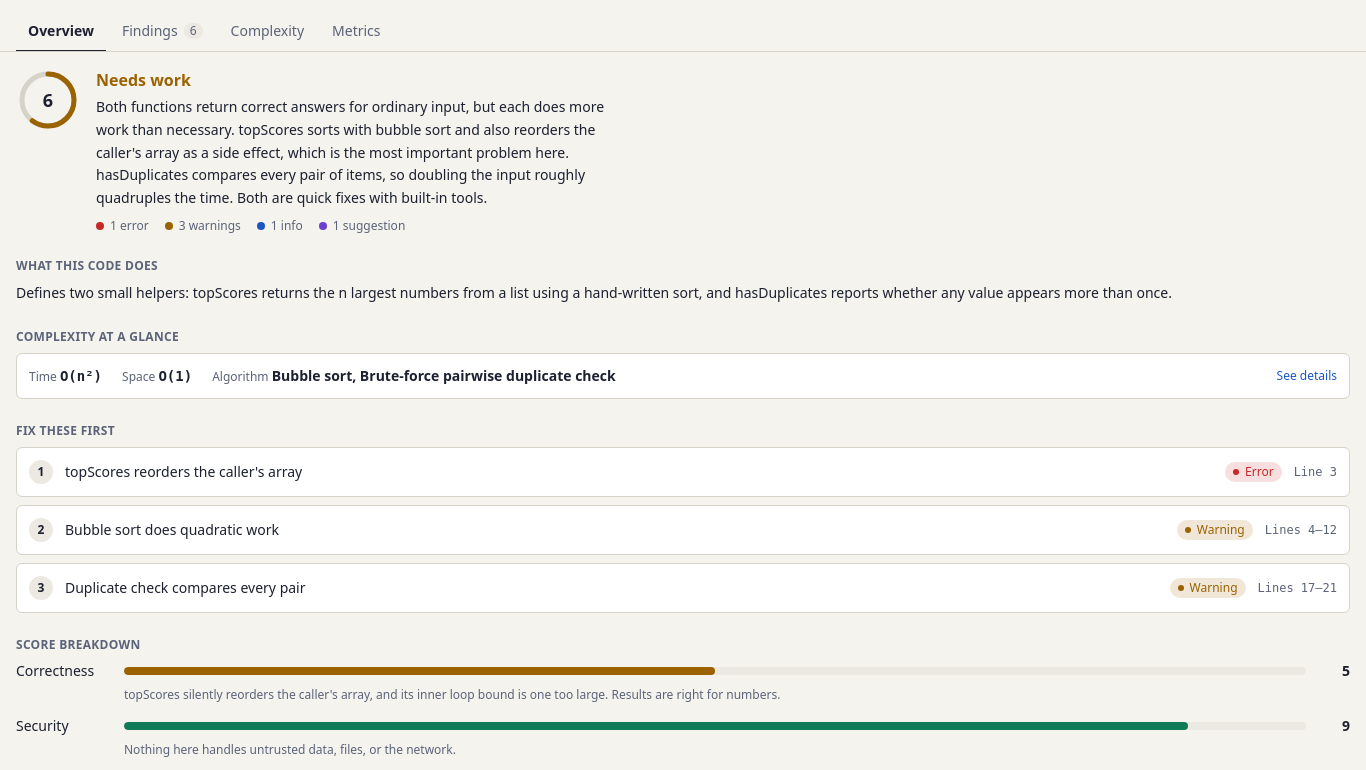
it: ReviewPanel result › switches between the sections
Click the tab "Findings 6" at (162, 32), box [110, 12, 215, 52]
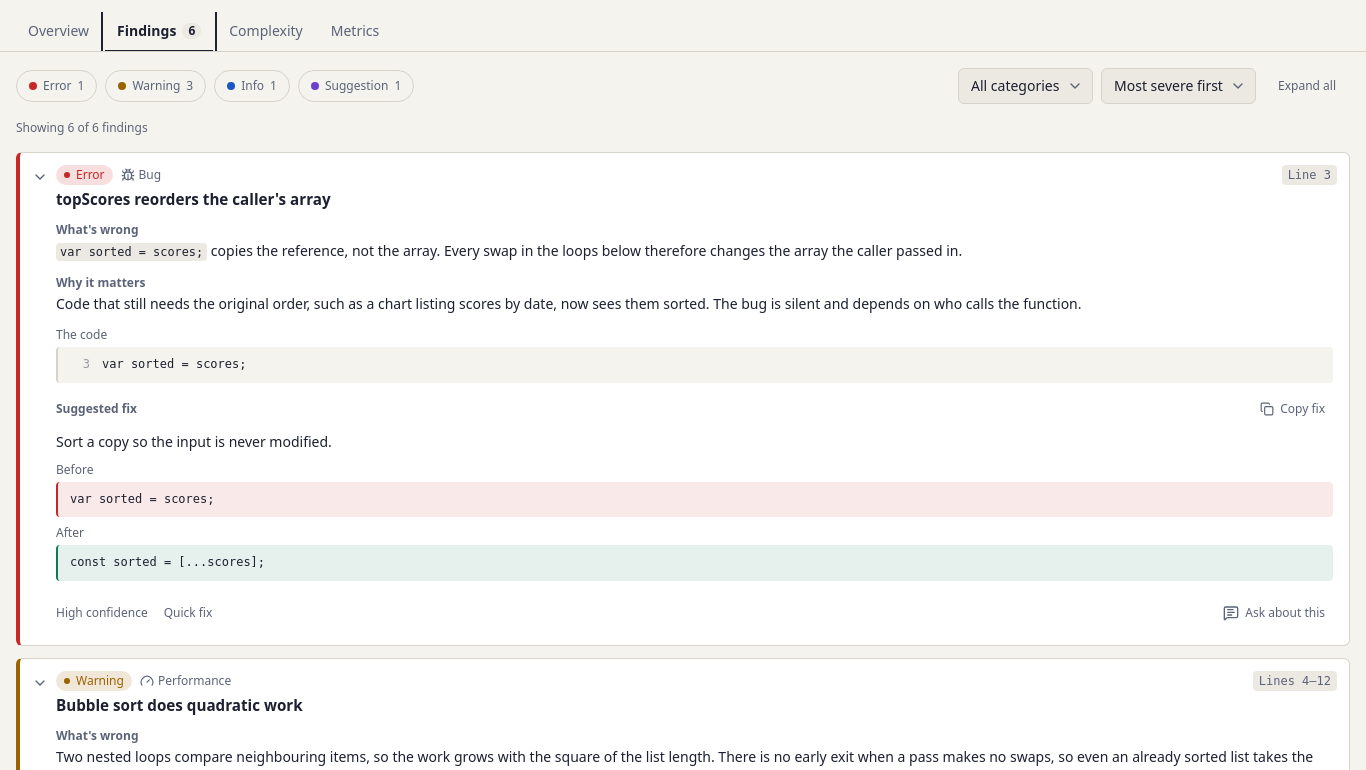
Click the tab "Complexity" at (266, 32), box [217, 12, 315, 52]
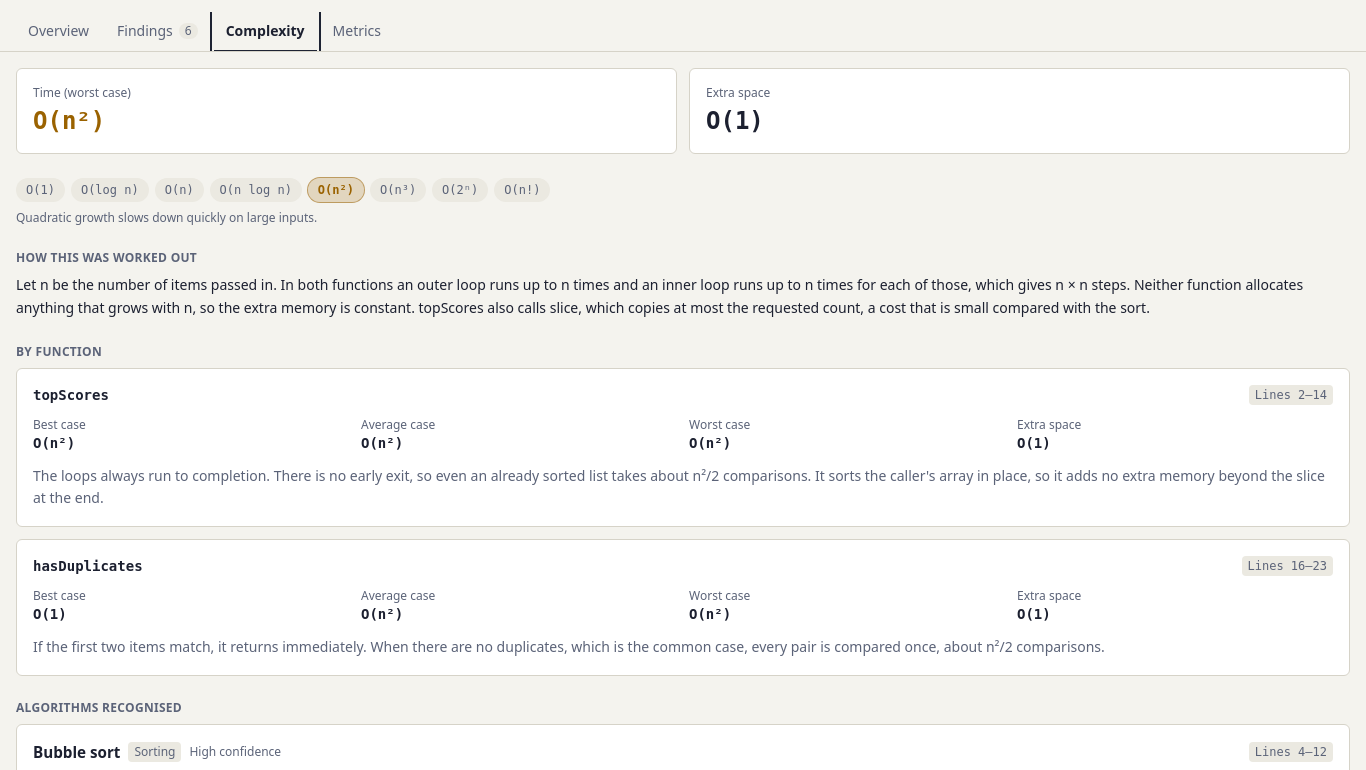
Click the tab "Metrics" at (357, 32), box [321, 12, 393, 52]
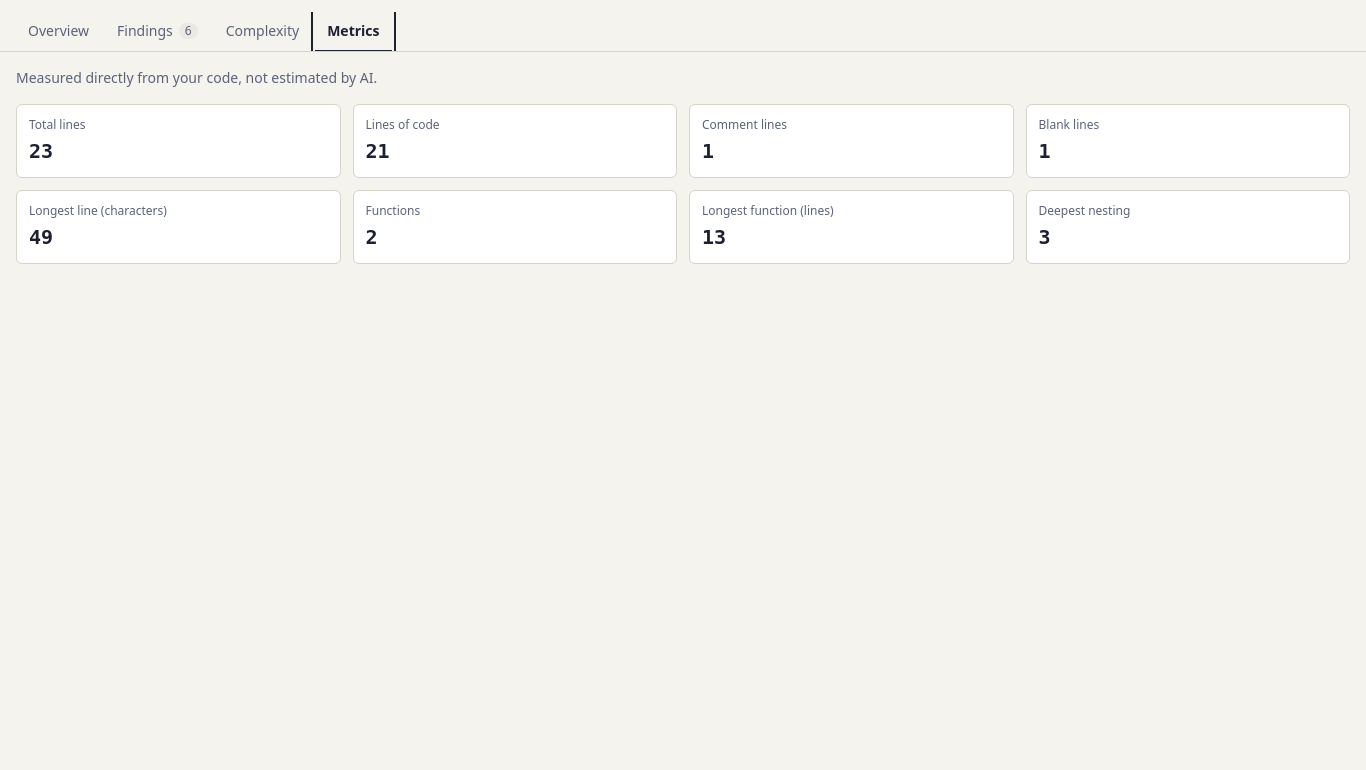
Check: the panel shows "Measured directly from your code", box [16, 68, 377, 87]
